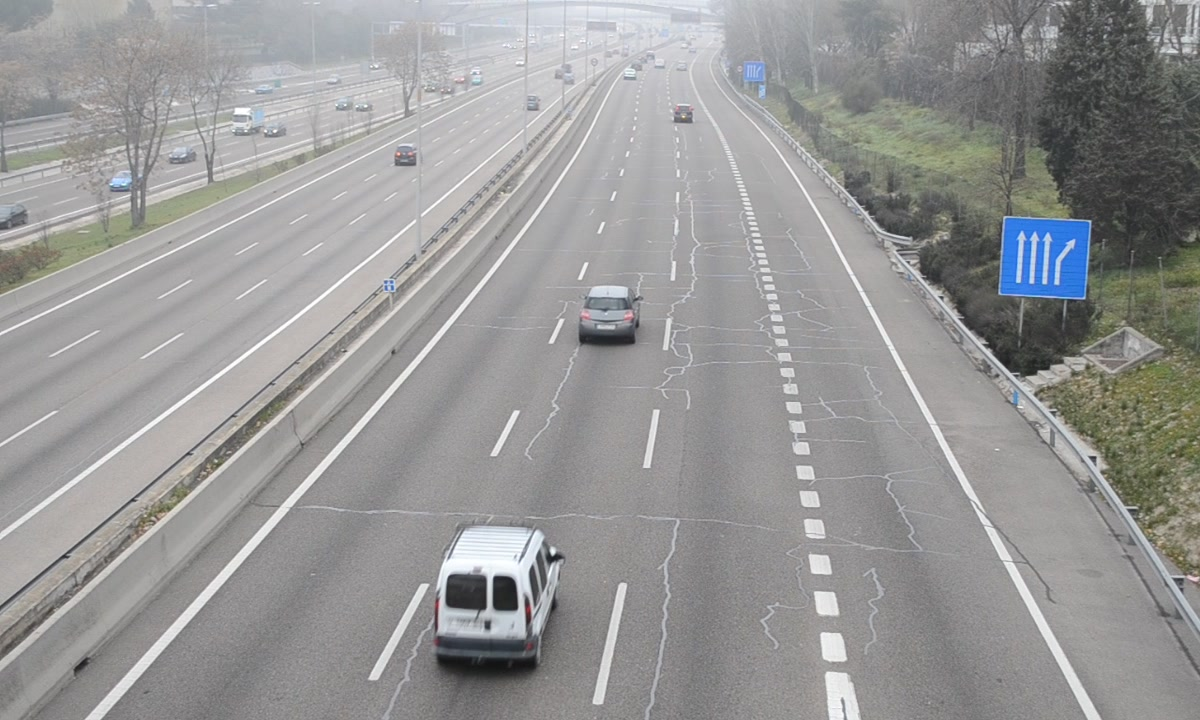car: (579, 284, 638, 340)
van: (432, 526, 561, 667)
